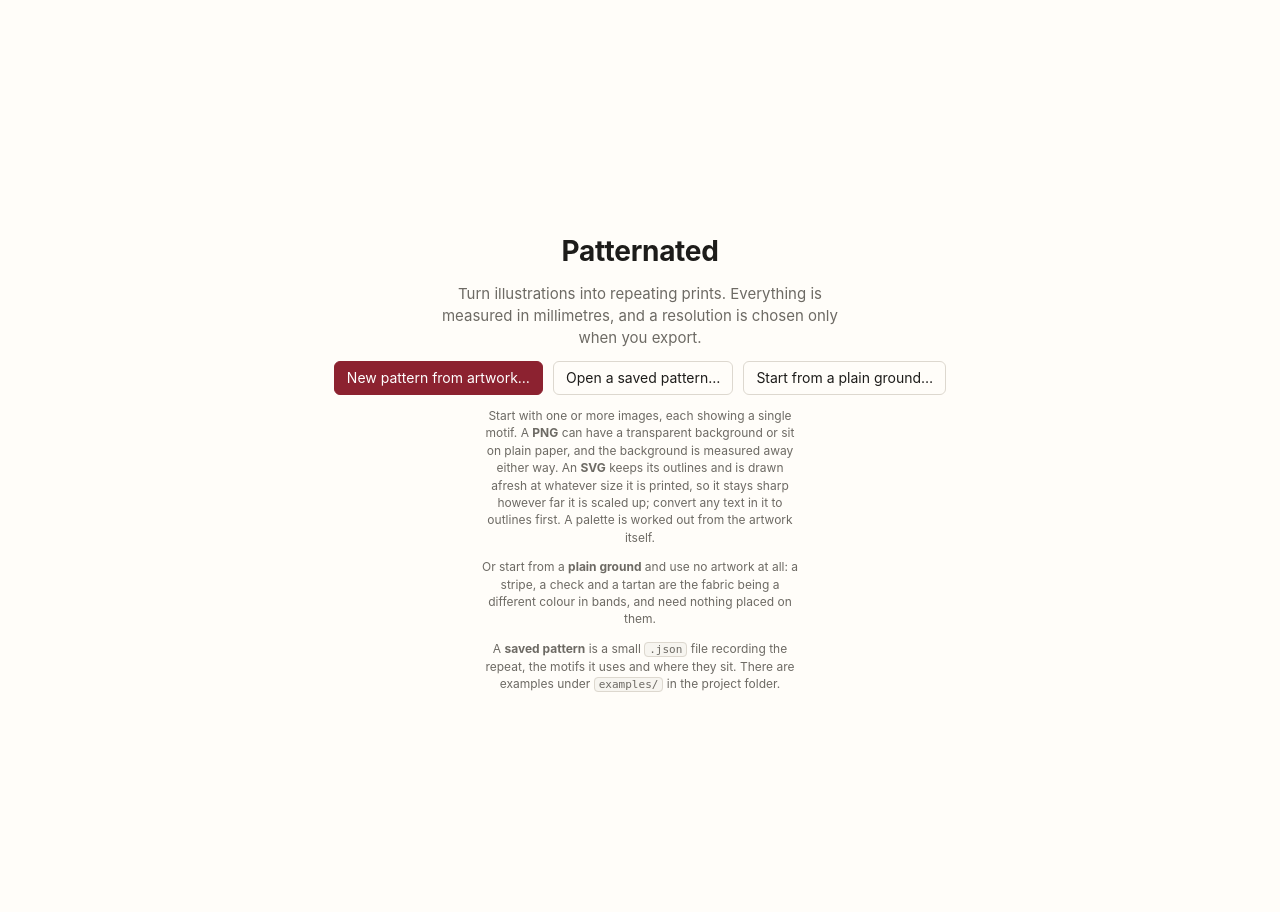
Test: what the engine reports, the interface says › names a motif that has dissolved into the background
Click the button "Open a saved pattern…": (643, 378) x1=553 y1=361 x2=733 y2=395
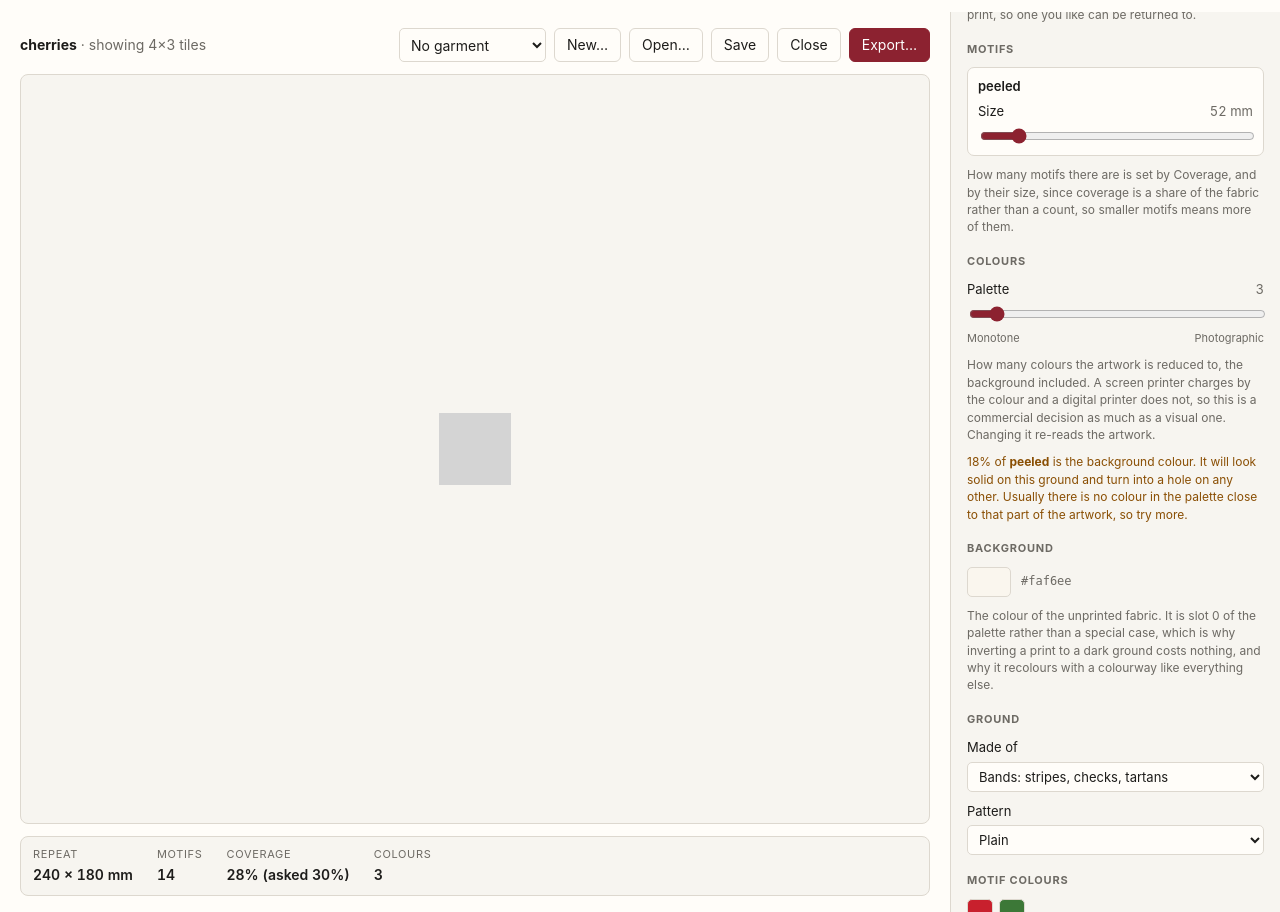
Expected: the button with test id "close" is shown, x1=777 y1=28 x2=841 y2=62
Expected: the text "peeled" next to "% of" is shown, x1=1010 y1=454 x2=1049 y2=469
